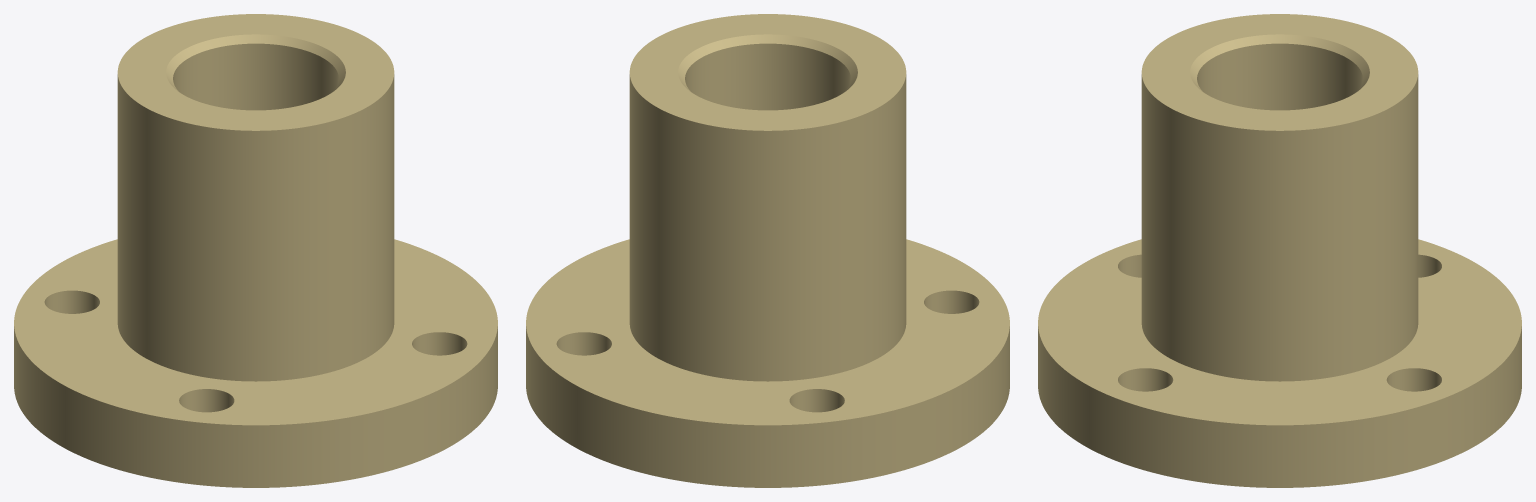
The model's file is flanged_bush.glb.
The picture shows the model from 3 angles, left to right: view 1: azimuth 30°, elevation 25°; view 2: azimuth 150°, elevation 25°; view 3: azimuth 270°, elevation 25°; orthographic projection.
Visible parts, largest first — view 1: flanged bush; view 2: flanged bush; view 3: flanged bush.
Boxes of the visible parts, x1=… form: flanged bush: x1=14, y1=14, x2=497, y2=487; flanged bush: x1=526, y1=14, x2=1009, y2=487; flanged bush: x1=1038, y1=14, x2=1521, y2=487.
Size of the model in its own units: 70 by 50 by 69.98.
